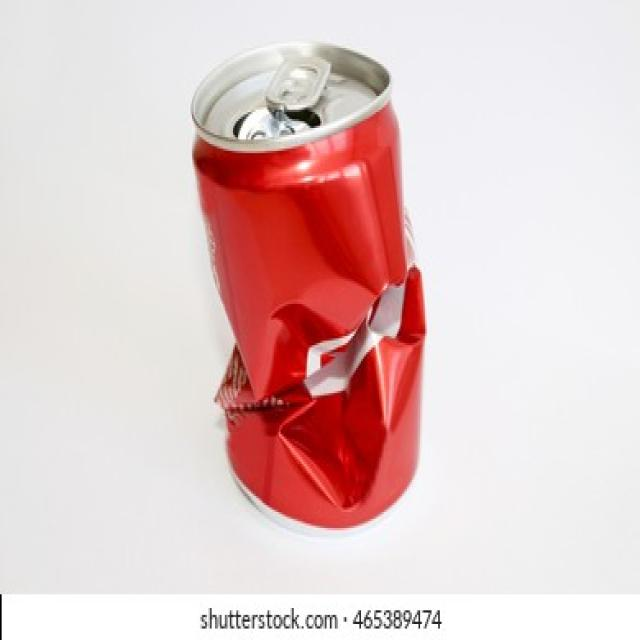can: (175, 14, 465, 549)
